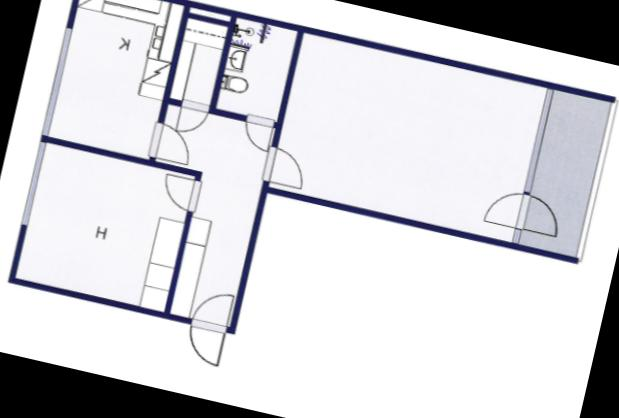door: (512, 190, 567, 240), (481, 182, 530, 232), (188, 284, 236, 334), (259, 144, 309, 192), (180, 318, 227, 366), (144, 122, 195, 166), (158, 171, 203, 215), (236, 111, 275, 155), (170, 96, 210, 138)
window: (38, 23, 76, 140), (520, 83, 556, 195), (15, 138, 48, 233), (509, 226, 523, 246)
